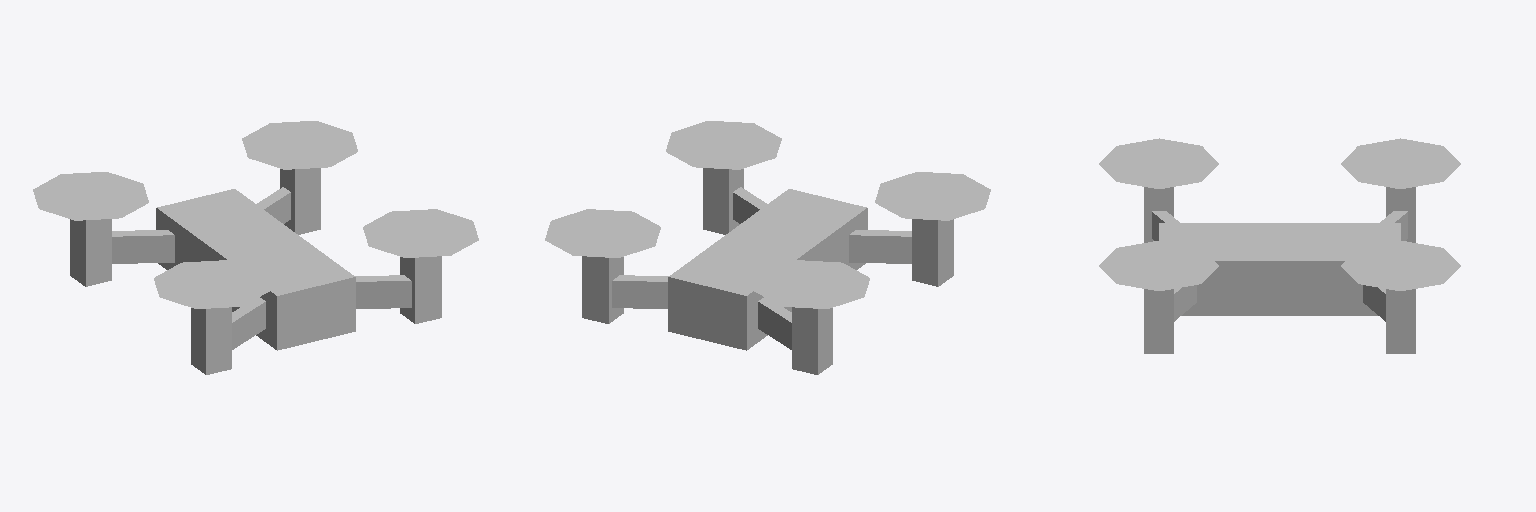
Rendered from quadcopter.obj.
3 views of the same model, side by side, from view 1: azimuth 30°, elevation 25°; view 2: azimuth 150°, elevation 25°; view 3: azimuth 270°, elevation 25° (orthographic).
Visible parts, largest first — view 1: Cube_Cube.001; view 2: Cube_Cube.001; view 3: Cube_Cube.001.
Part boxes in pixels (left/top/right/bottom): Cube_Cube.001: left=33, top=121, right=478, bottom=374; Cube_Cube.001: left=545, top=121, right=990, bottom=374; Cube_Cube.001: left=1099, top=138, right=1460, bottom=353.
Bounding box in the file's own units: 1.5 × 0.375 × 1.5.